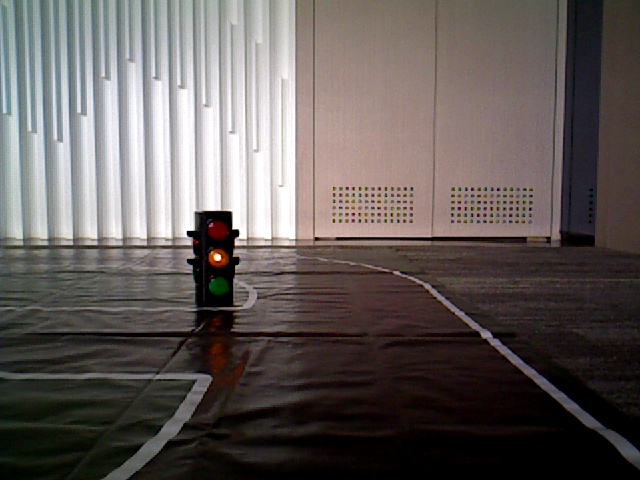yellow: (197, 212, 234, 298)
